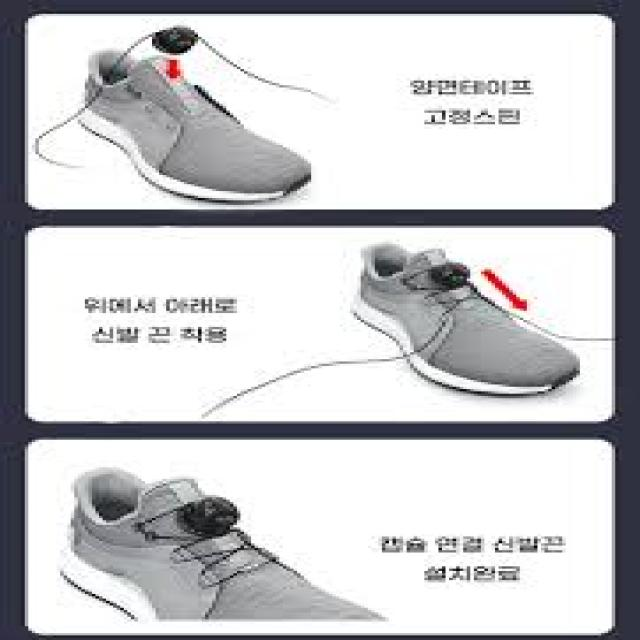shoe: (64, 459, 395, 629), (55, 42, 352, 209), (340, 235, 580, 401)
